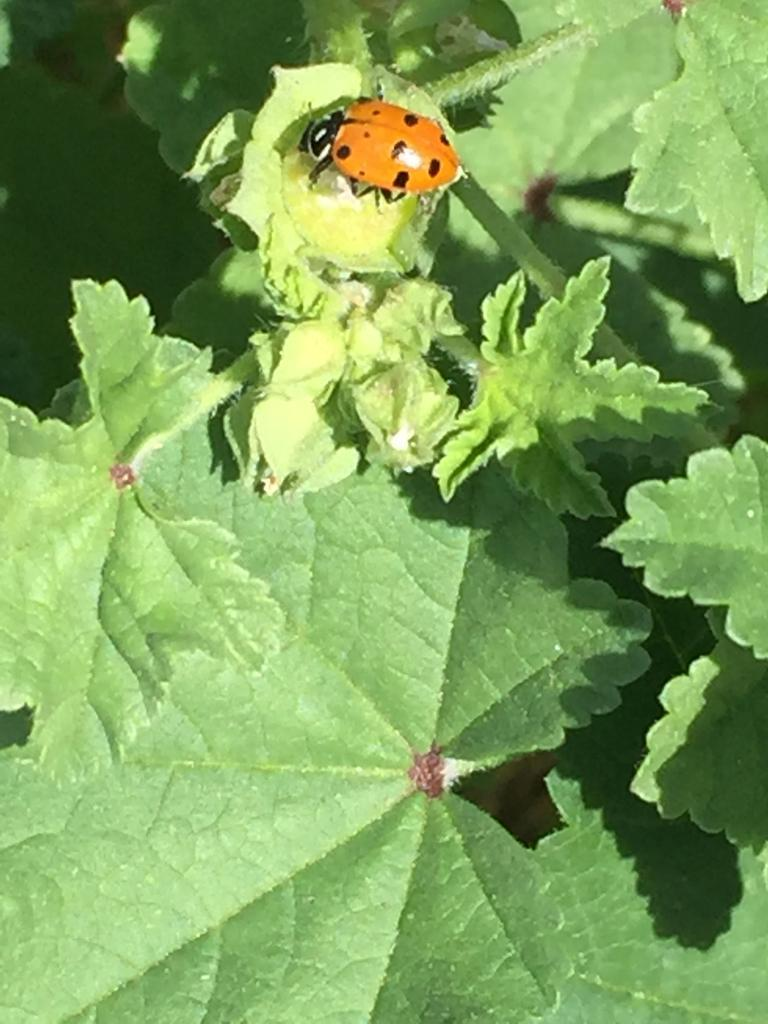ladybug: (296, 84, 466, 206)
